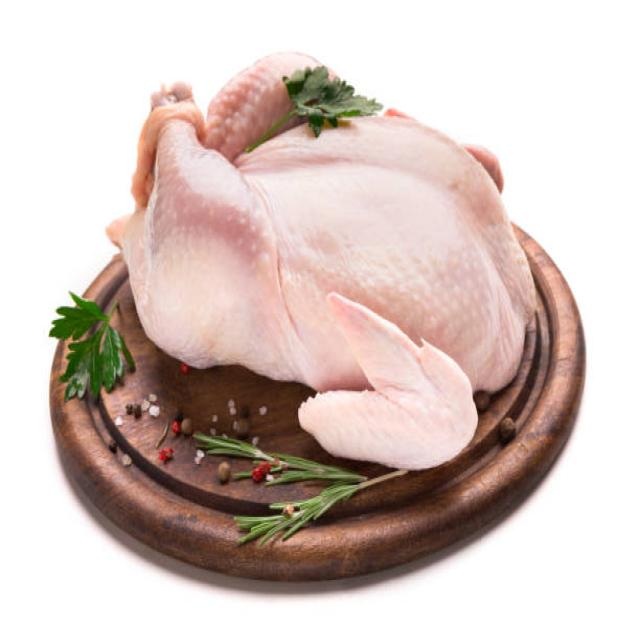Chicken: (96, 45, 546, 470)
